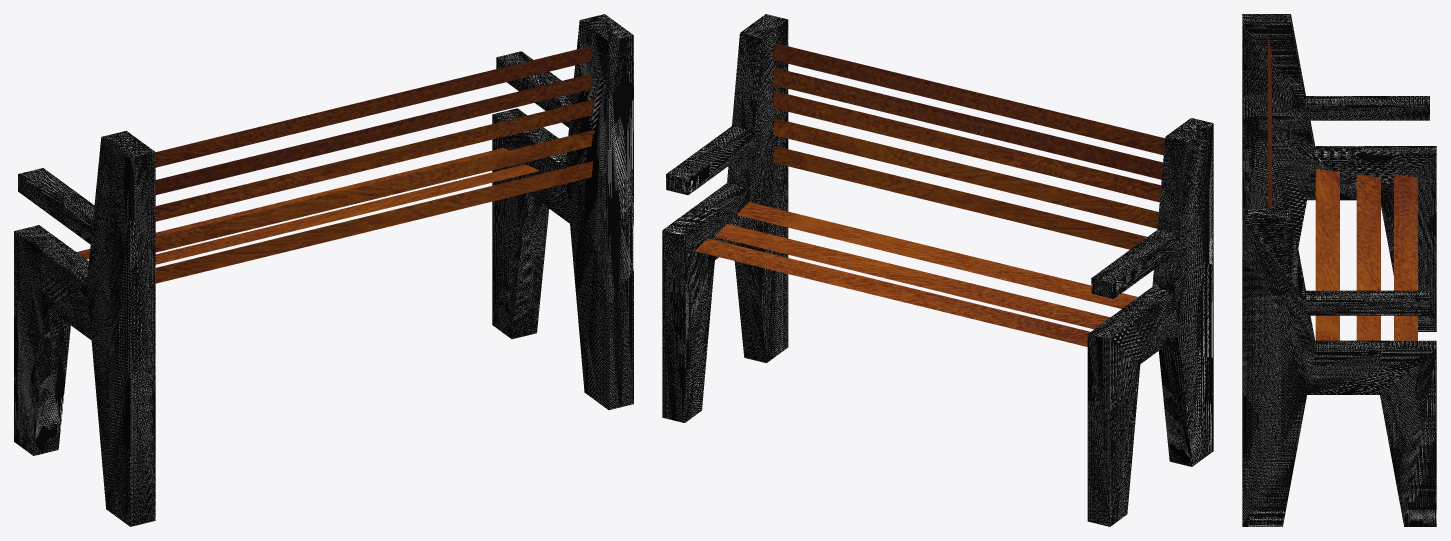
3 renders of one model, left to right at view 1: azimuth 30°, elevation 25°; view 2: azimuth 150°, elevation 25°; view 3: azimuth 270°, elevation 25°, orthographic. The views are drawn at different scales.
Visible parts, largest first — view 1: mesh1_mesh1-geometry, mesh2_mesh2-geometry, mesh6_mesh6-geometry, mesh7_mesh7-geometry, mesh3_mesh3-geometry, mesh5_mesh5-geometry, mesh4_mesh4-geometry, mesh9_mesh9-geometry, mesh10_mesh10-geometry; view 2: mesh1_mesh1-geometry, mesh2_mesh2-geometry, mesh4_mesh4-geometry, mesh3_mesh3-geometry, mesh5_mesh5-geometry, mesh6_mesh6-geometry, mesh7_mesh7-geometry, mesh10_mesh10-geometry, mesh9_mesh9-geometry, mesh8_mesh8-geometry; view 3: mesh2_mesh2-geometry, mesh1_mesh1-geometry, mesh8_mesh8-geometry, mesh9_mesh9-geometry, mesh10_mesh10-geometry, mesh3_mesh3-geometry.
Part boxes in pixels (x1,y1,x2,y2): mesh1_mesh1-geometry: (14,130,155,526); mesh2_mesh2-geometry: (492,14,633,409); mesh6_mesh6-geometry: (155,130,593,252); mesh7_mesh7-geometry: (155,161,593,283); mesh3_mesh3-geometry: (155,45,593,167); mesh5_mesh5-geometry: (155,99,593,221); mesh4_mesh4-geometry: (155,73,593,194); mesh9_mesh9-geometry: (155,164,539,264); mesh10_mesh10-geometry: (76,148,508,259); mesh1_mesh1-geometry: (1087,118,1213,526); mesh2_mesh2-geometry: (662,14,788,422); mesh4_mesh4-geometry: (772,68,1162,179); mesh3_mesh3-geometry: (772,43,1165,155); mesh5_mesh5-geometry: (772,91,1160,202); mesh6_mesh6-geometry: (773,118,1158,228); mesh7_mesh7-geometry: (773,146,1146,249); mesh10_mesh10-geometry: (695,238,1090,346); mesh9_mesh9-geometry: (715,224,1109,329); mesh8_mesh8-geometry: (736,202,1137,308); mesh2_mesh2-geometry: (1242,209,1436,526); mesh1_mesh1-geometry: (1242,14,1436,331); mesh8_mesh8-geometry: (1315,169,1339,340); mesh9_mesh9-geometry: (1356,174,1380,340); mesh10_mesh10-geometry: (1394,174,1417,340); mesh3_mesh3-geometry: (1268,38,1271,208).
Bounding box in the file's own units: 0.7782 × 0.5447 × 0.3113.
